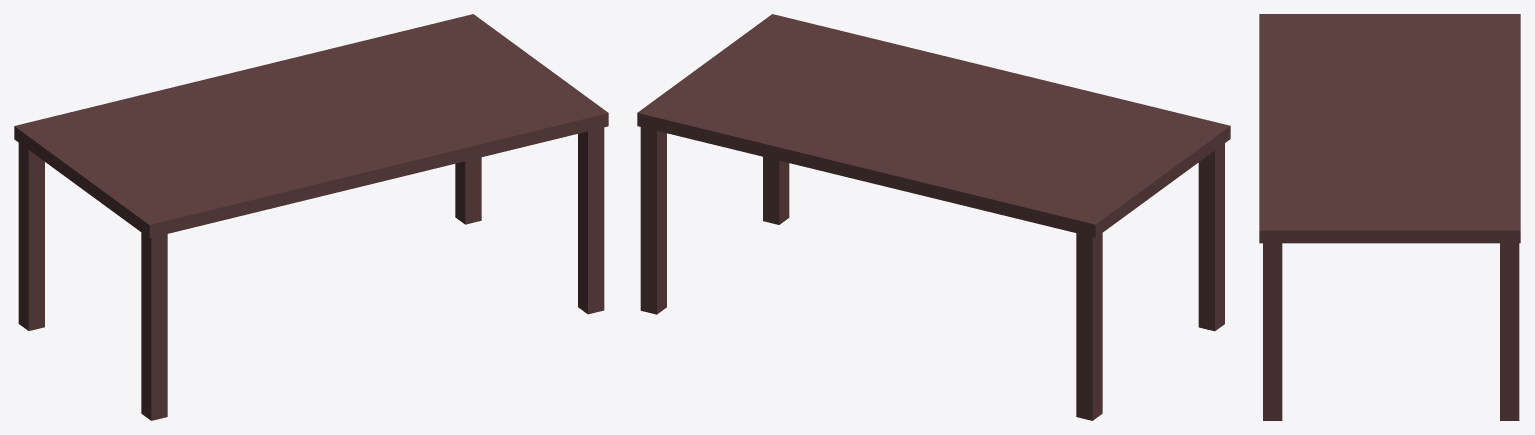
The model's file is table6.obj.
3 views of the same model, side by side, from view 1: azimuth 30°, elevation 25°; view 2: azimuth 150°, elevation 25°; view 3: azimuth 270°, elevation 25° (orthographic). The views are drawn at different scales.
Parts seen in each view (by area): view 1: table6; view 2: table6; view 3: table6.
Part boxes in pixels (x1,y1,x2,y2): table6: [14, 14, 608, 420]; table6: [637, 14, 1230, 420]; table6: [1259, 14, 1520, 420].
Size of the model in its own units: 1.77 by 0.7296 by 0.9029.
